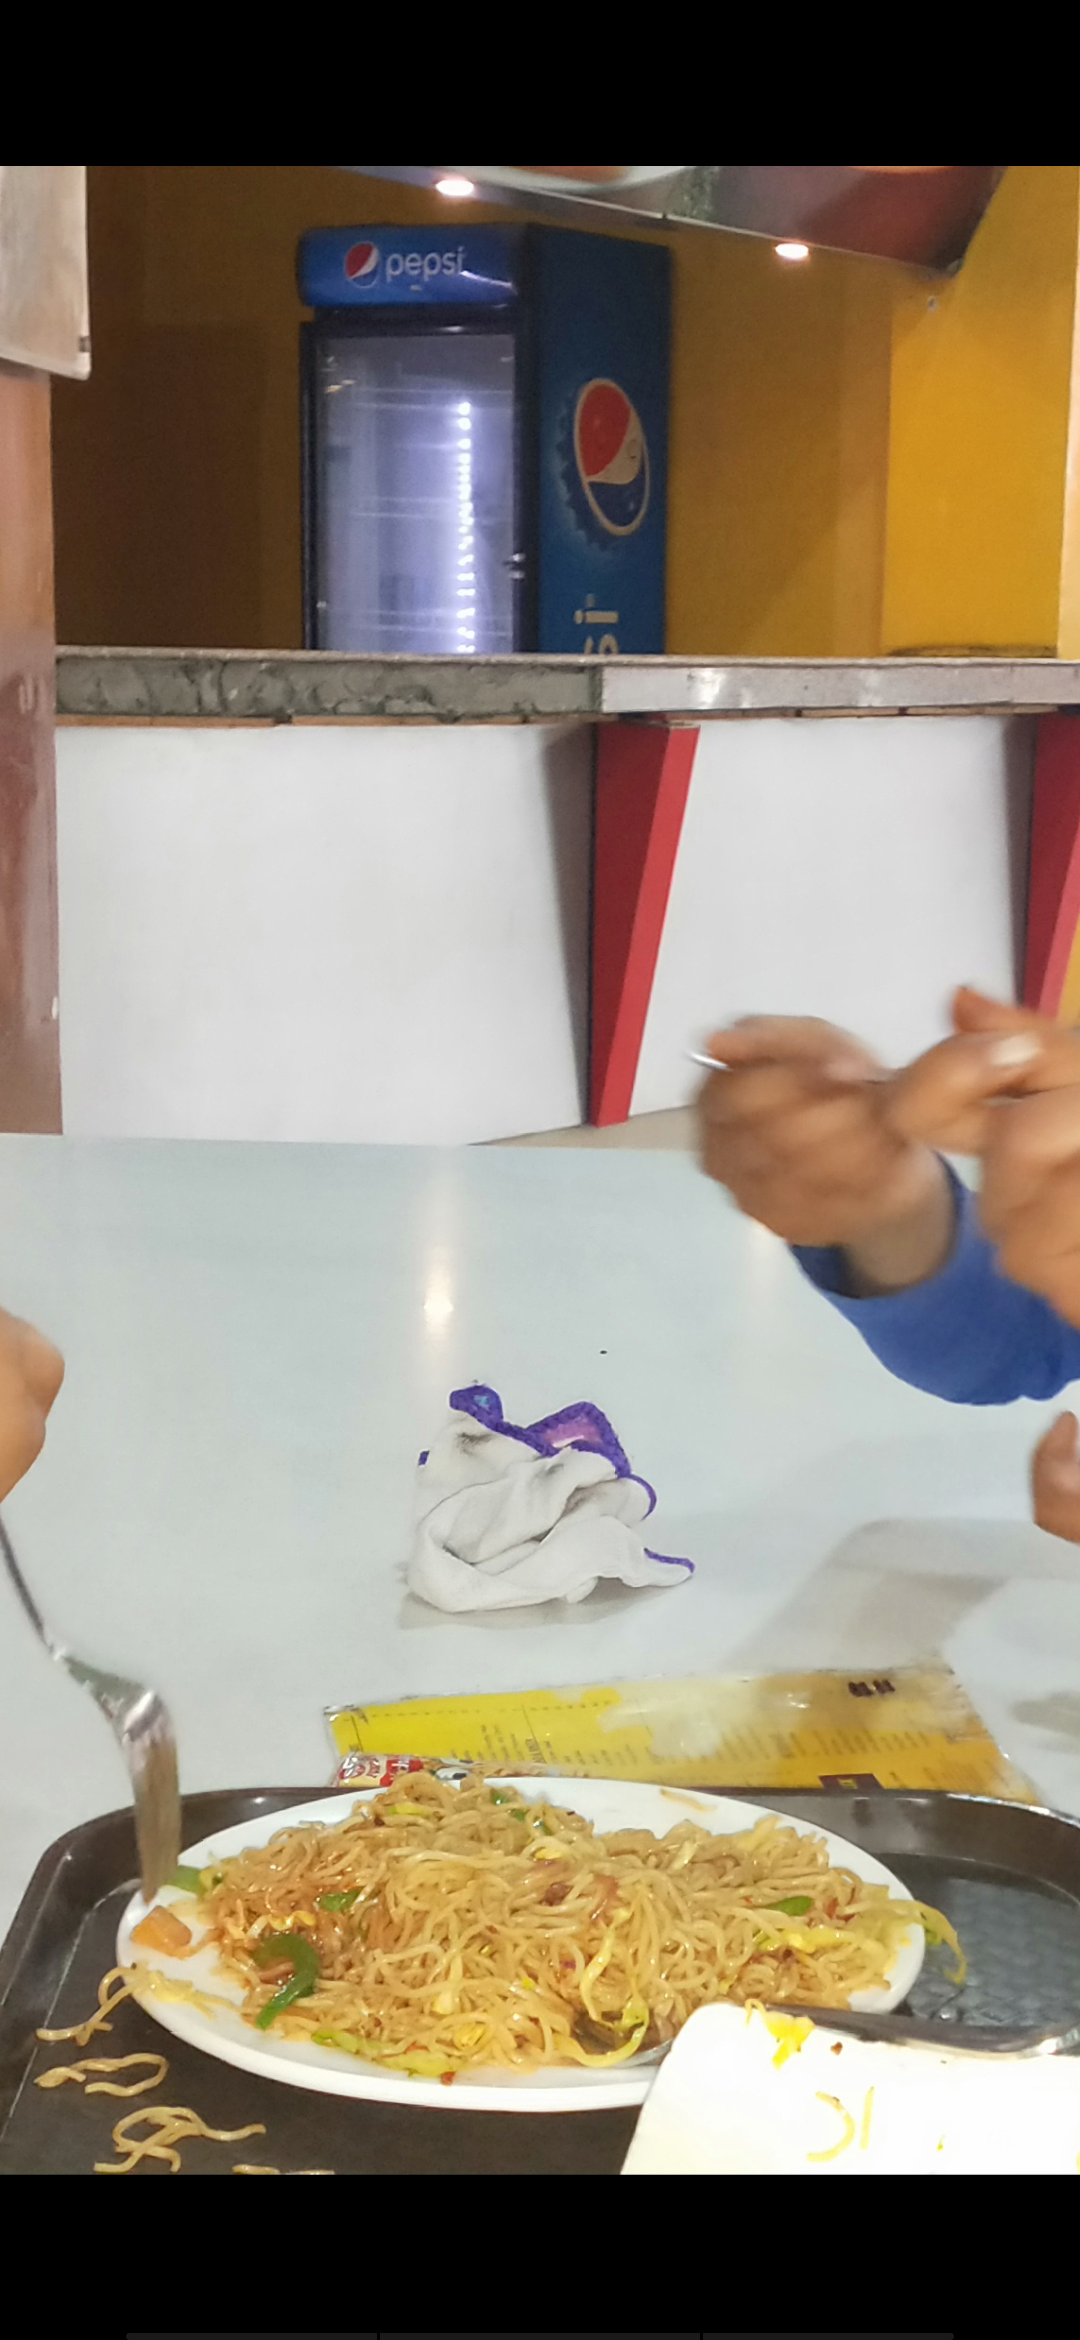food: (133, 1760, 914, 2091)
